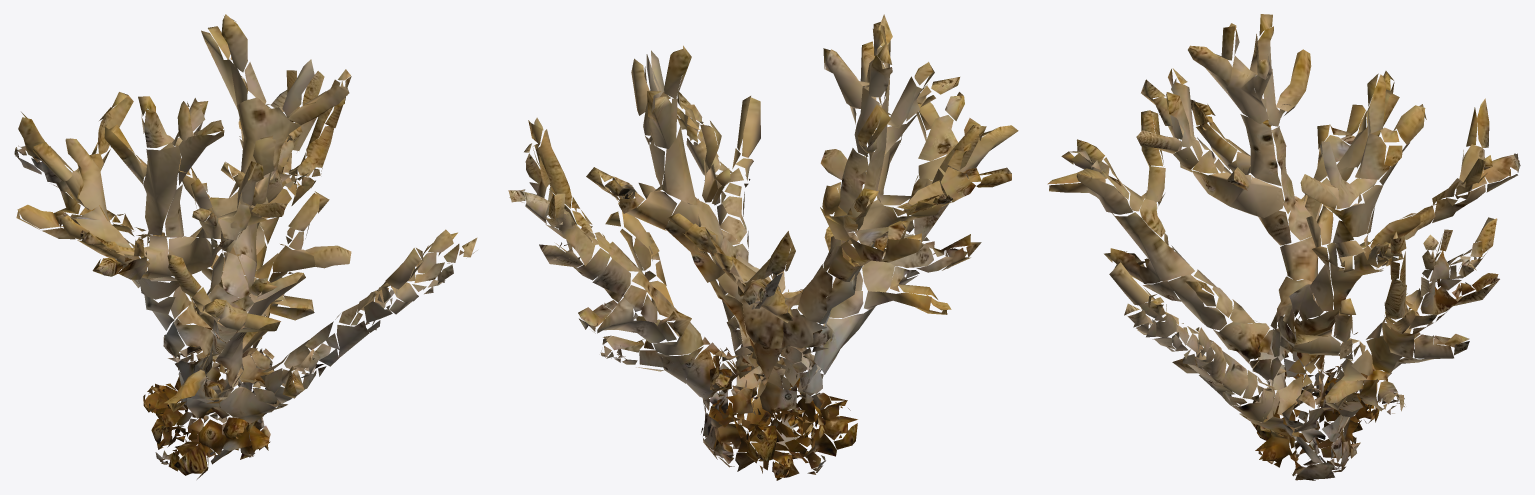
Rendered from coral_branch_a.glb.
The picture shows the model from 3 angles, left to right: view 1: azimuth 30°, elevation 25°; view 2: azimuth 150°, elevation 25°; view 3: azimuth 270°, elevation 25°; orthographic projection. The views are drawn at different scales.
Parts seen in each view (by area): view 1: tripo_node_7d8799fa-3d9b-45f8-854b-cc6826886864; view 2: tripo_node_7d8799fa-3d9b-45f8-854b-cc6826886864; view 3: tripo_node_7d8799fa-3d9b-45f8-854b-cc6826886864.
Part boxes in pixels (x1,y1,x2,y2): tripo_node_7d8799fa-3d9b-45f8-854b-cc6826886864: (14,14,477,479); tripo_node_7d8799fa-3d9b-45f8-854b-cc6826886864: (508,14,1018,480); tripo_node_7d8799fa-3d9b-45f8-854b-cc6826886864: (1047,14,1520,480).
Bounding box in the file's own units: 0.8792 × 0.9527 × 0.9928.
Materials: 1 (1 with a texture image).
